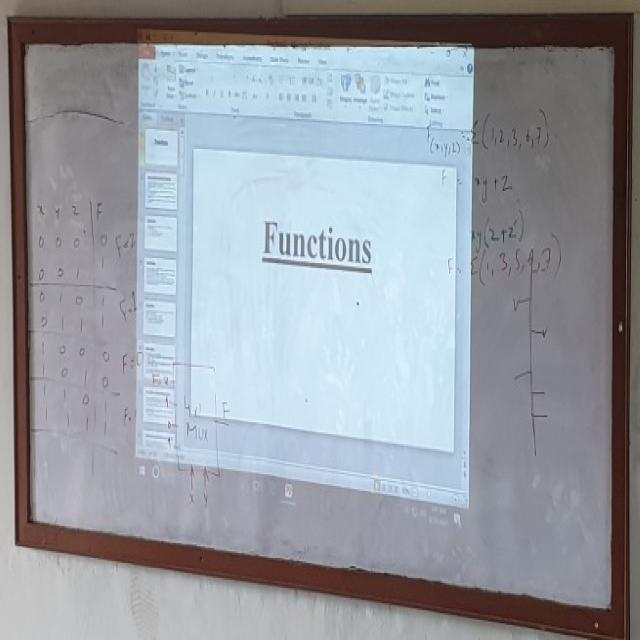Slide: (138, 30, 474, 535)
White-board: (19, 24, 620, 622)
